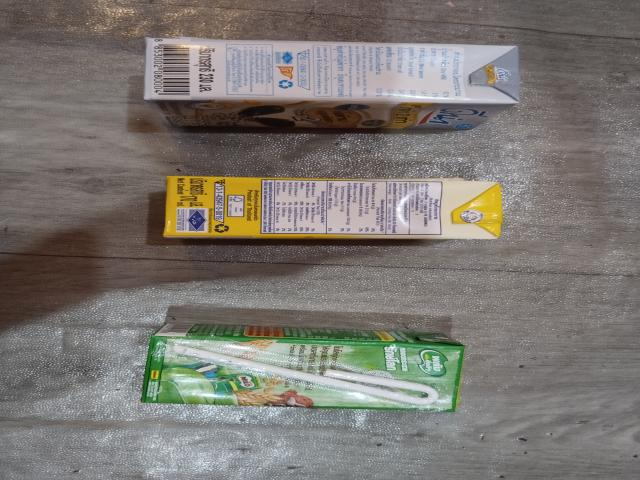drink_box: (132, 32, 537, 134), (124, 320, 472, 418), (151, 166, 520, 255)
